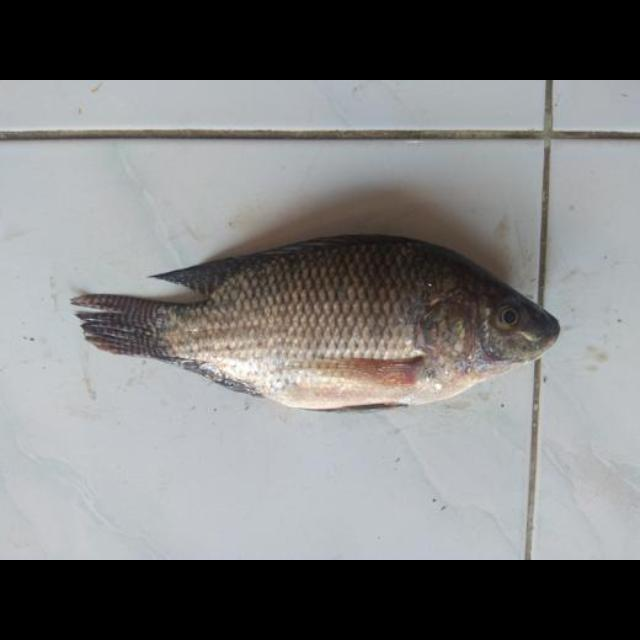Tilapia: (72, 233, 566, 411)
